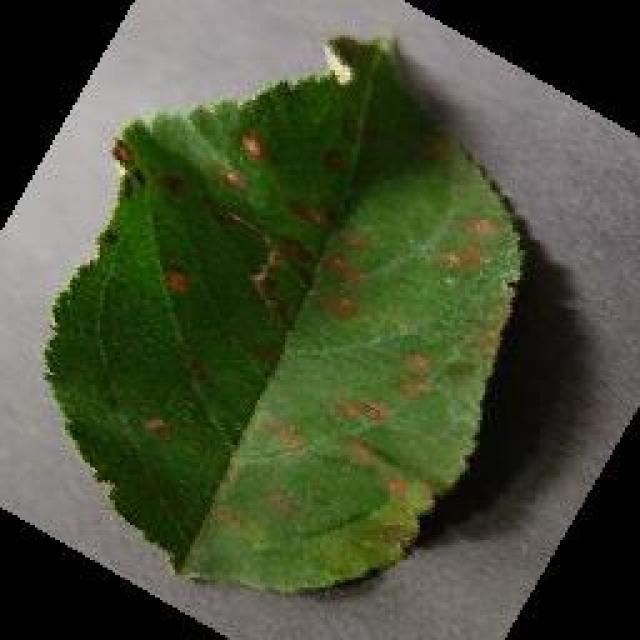apple rust disease: (40, 30, 528, 595)
